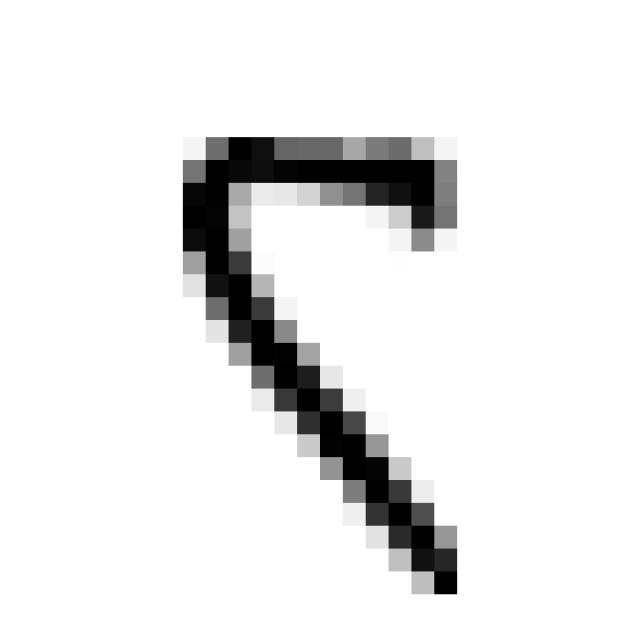2 -two-: (148, 105, 477, 614)
